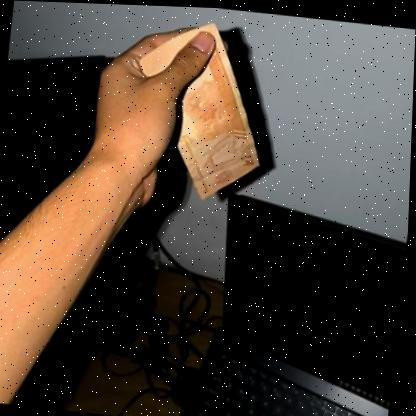twenty-back-vef: (115, 11, 277, 205)
